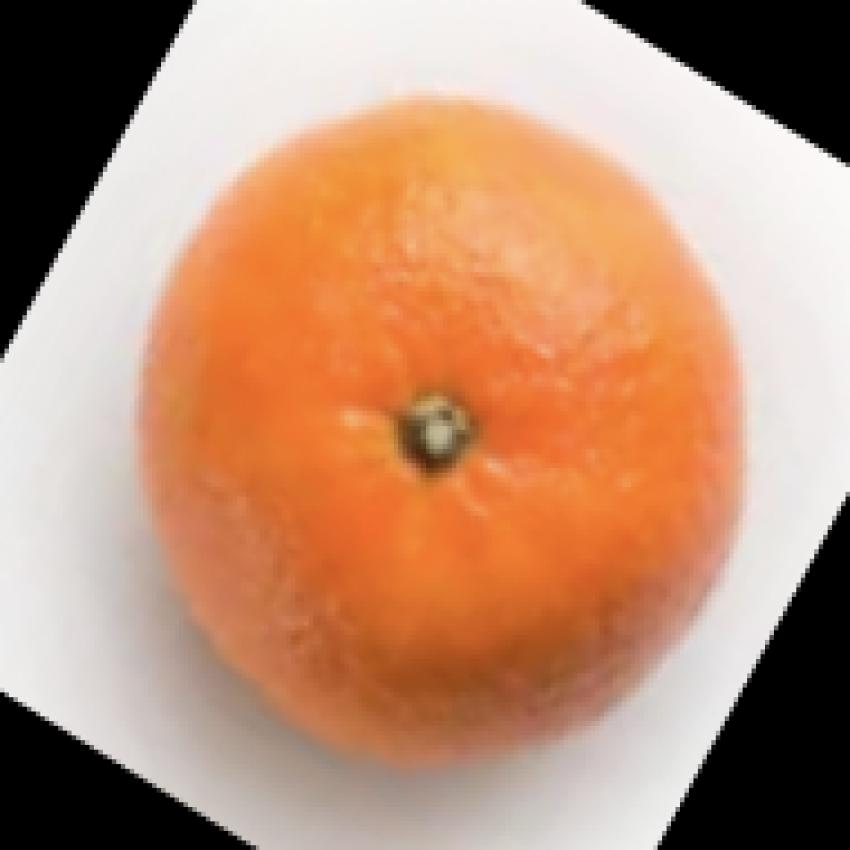Buen estado: (128, 63, 753, 780)
